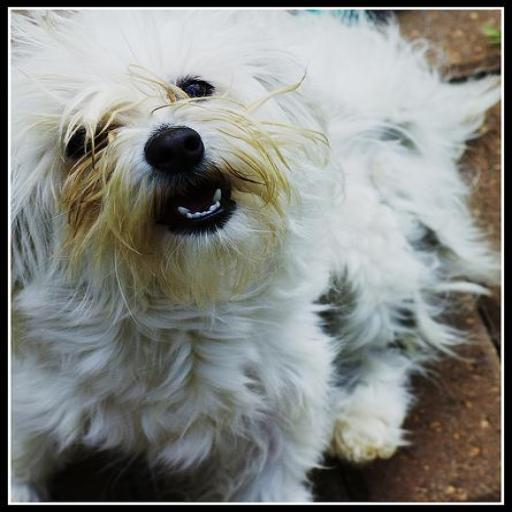dog_face: (13, 30, 299, 280)
